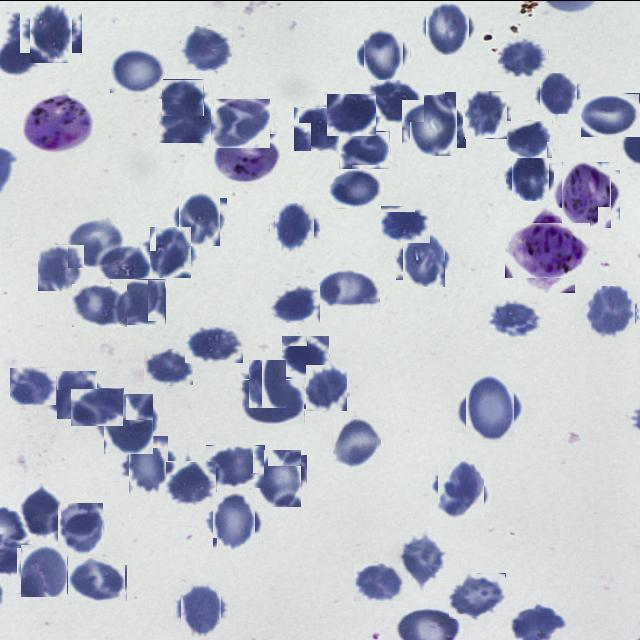red blood cell: (460, 378, 520, 438), (406, 96, 462, 152), (101, 395, 156, 450), (211, 98, 270, 147), (68, 218, 126, 267), (242, 378, 305, 423), (252, 451, 304, 503), (25, 5, 77, 57), (435, 462, 487, 514), (68, 556, 128, 600), (449, 572, 506, 618), (315, 268, 380, 308), (581, 92, 640, 136), (110, 278, 166, 324), (400, 232, 450, 283), (586, 286, 636, 337), (206, 444, 265, 487), (209, 496, 259, 546), (332, 416, 382, 466), (18, 545, 68, 595), (159, 98, 215, 142), (109, 48, 164, 92), (423, 2, 472, 51), (124, 439, 173, 488), (72, 283, 127, 326), (400, 533, 446, 584), (369, 79, 424, 121), (177, 584, 225, 632), (56, 504, 104, 552), (181, 25, 232, 70), (20, 487, 65, 538), (176, 194, 223, 242), (294, 106, 345, 150), (166, 460, 217, 504), (185, 324, 243, 362), (486, 299, 542, 338), (360, 30, 407, 76), (98, 244, 152, 284), (498, 34, 549, 76), (272, 204, 318, 250), (148, 229, 194, 275), (38, 244, 84, 290), (329, 168, 381, 208), (327, 93, 376, 135), (464, 92, 509, 137), (282, 334, 330, 376), (71, 387, 124, 425), (54, 372, 99, 416), (269, 284, 320, 322), (339, 130, 390, 168), (508, 154, 552, 198), (305, 365, 349, 409), (381, 204, 431, 242), (247, 361, 290, 405), (354, 562, 403, 600), (506, 119, 553, 157), (10, 366, 57, 404), (144, 348, 193, 384), (538, 72, 578, 112), (162, 78, 204, 115)
schizont: (512, 214, 582, 284)
trophozoite: (21, 96, 91, 151), (212, 134, 280, 184), (558, 166, 616, 223)
